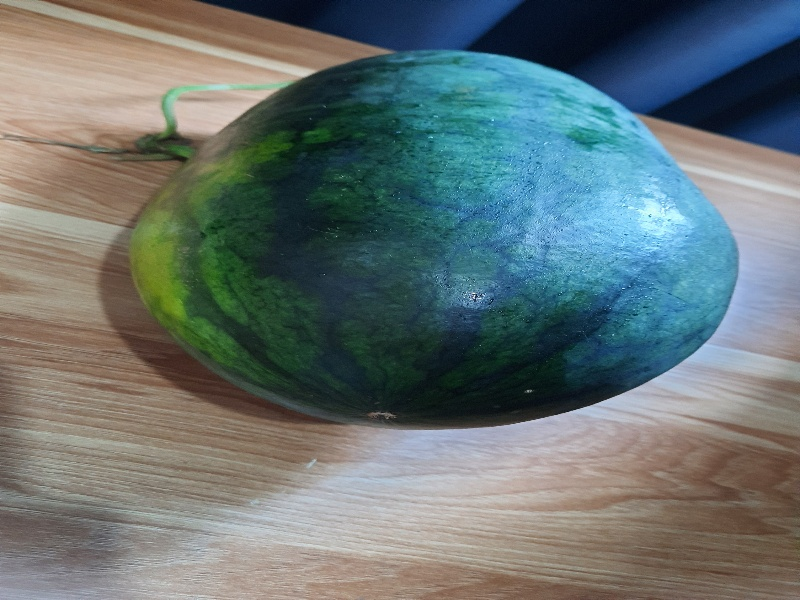fruit: (123, 46, 736, 434)
